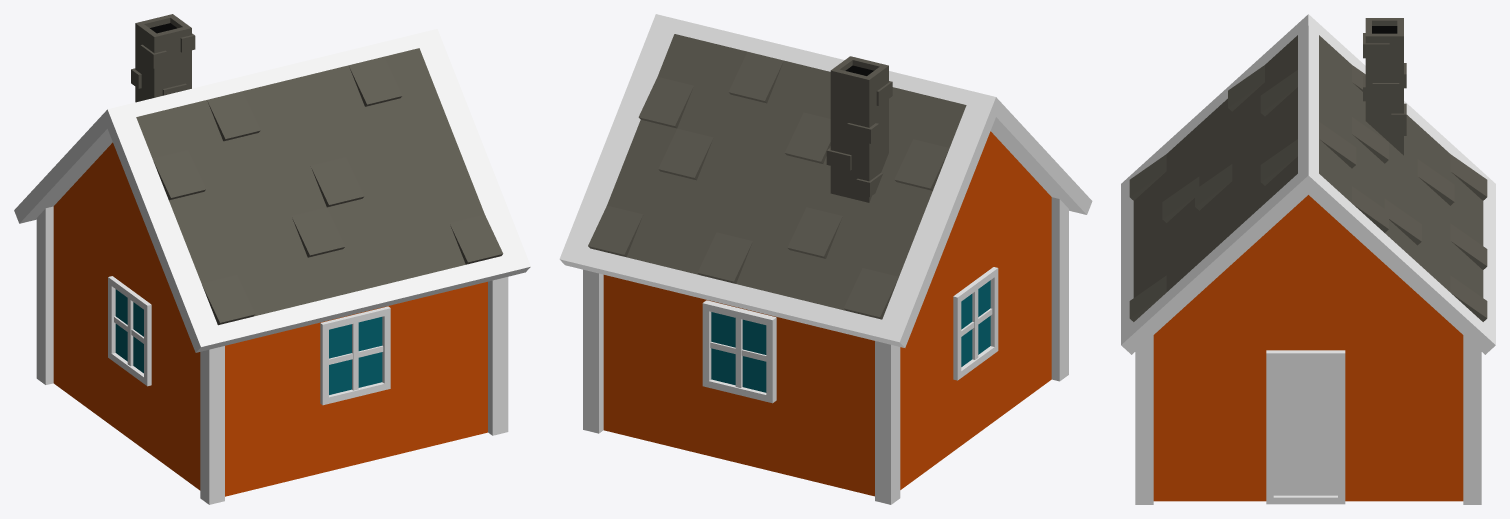
File: FarmHouse_02.fbx
The picture shows the model from 3 angles, left to right: view 1: azimuth 30°, elevation 25°; view 2: azimuth 150°, elevation 25°; view 3: azimuth 270°, elevation 25°; orthographic projection. The views are drawn at different scales.
Visible parts, largest first — view 1: FarmHouse_02; view 2: FarmHouse_02; view 3: FarmHouse_02.
Part boxes in pixels (<box>): FarmHouse_02: <box>14,14,530,504</box>; FarmHouse_02: <box>559,14,1092,504</box>; FarmHouse_02: <box>1121,14,1495,504</box>.
Size of the model in its own units: 0.6333 by 0.6771 by 0.6216.
